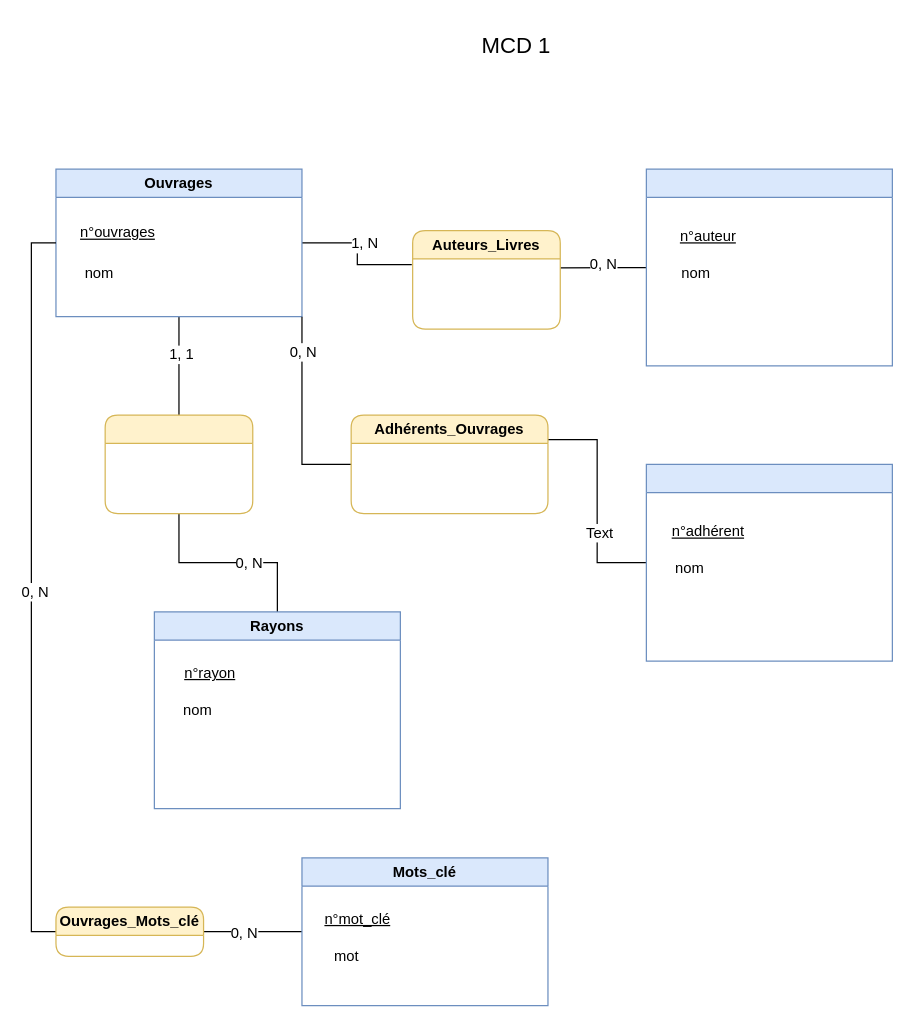
Image size: 914x1027. Some labels were removed from this diagram. The shapes that lost their labels are listed below. From the top down, each one's box as (x1, y1, x2, y2) in pixels, then its label:
(645, 168, 892, 366): Auteurs
(104, 414, 253, 514): Livres_Rayons
(645, 463, 892, 661): Adhérents
